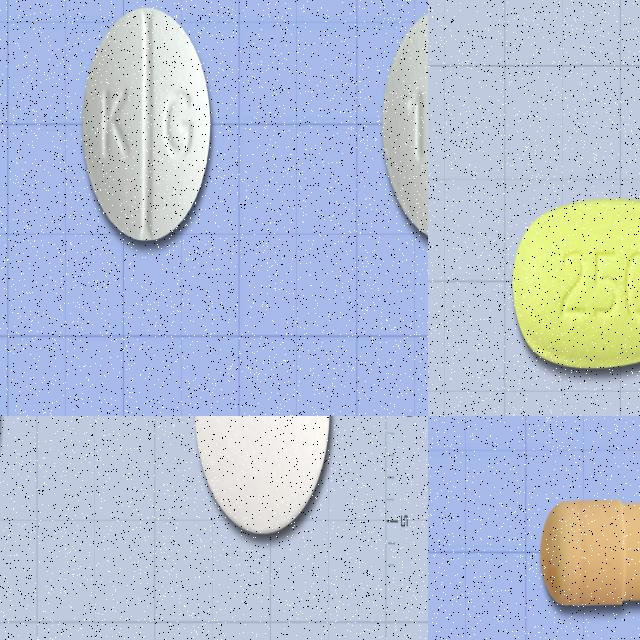Cefixime Cap- Mothers: (538, 493, 640, 610)
Ciprocin - 259mg: (80, 3, 216, 251), (379, 0, 428, 250)
Clocin Film Coated Tab: (513, 196, 640, 369)
Cyspec: (195, 416, 331, 535)
